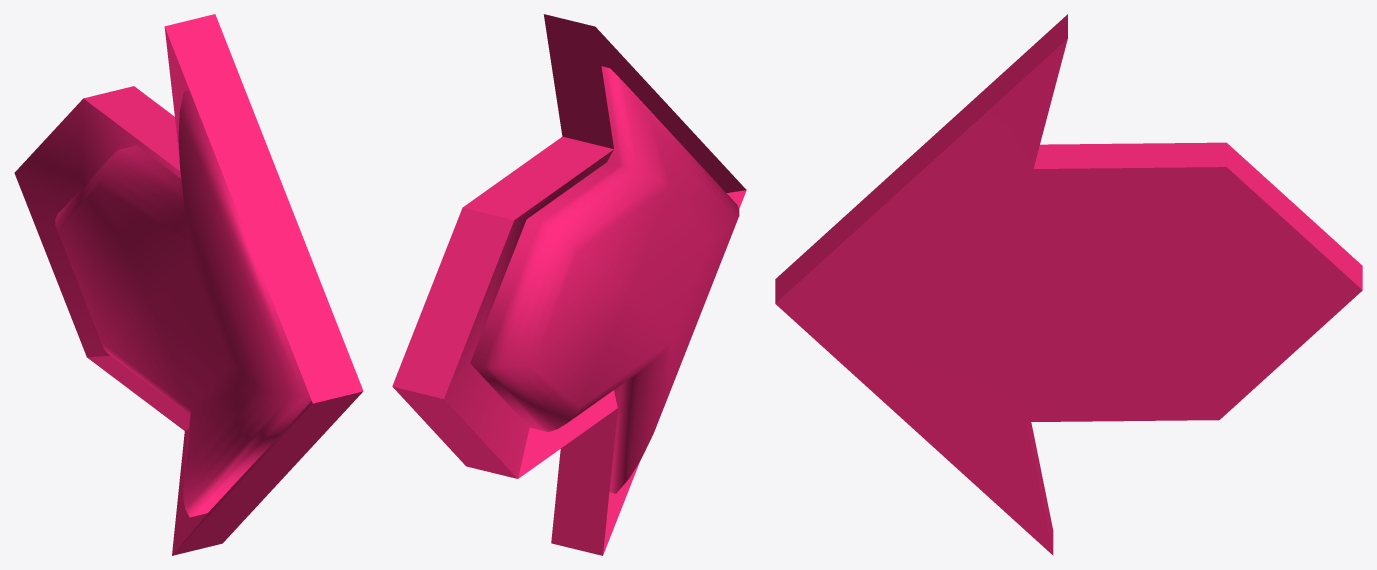
The model's file is DDRArrowButton.fbx.
The picture shows the model from 3 angles, left to right: view 1: azimuth 30°, elevation 25°; view 2: azimuth 150°, elevation 25°; view 3: azimuth 270°, elevation 25°; orthographic projection. The views are drawn at different scales.
Visible parts, largest first — view 1: Box040; view 2: Box040; view 3: Box040.
Part boxes in pixels (x1,y1,x2,y2): Box040: (14,14,363,555); Box040: (392,14,746,555); Box040: (775,14,1362,555).
Bounding box in the file's own units: 0.7759 × 5.18 × 5.33.
